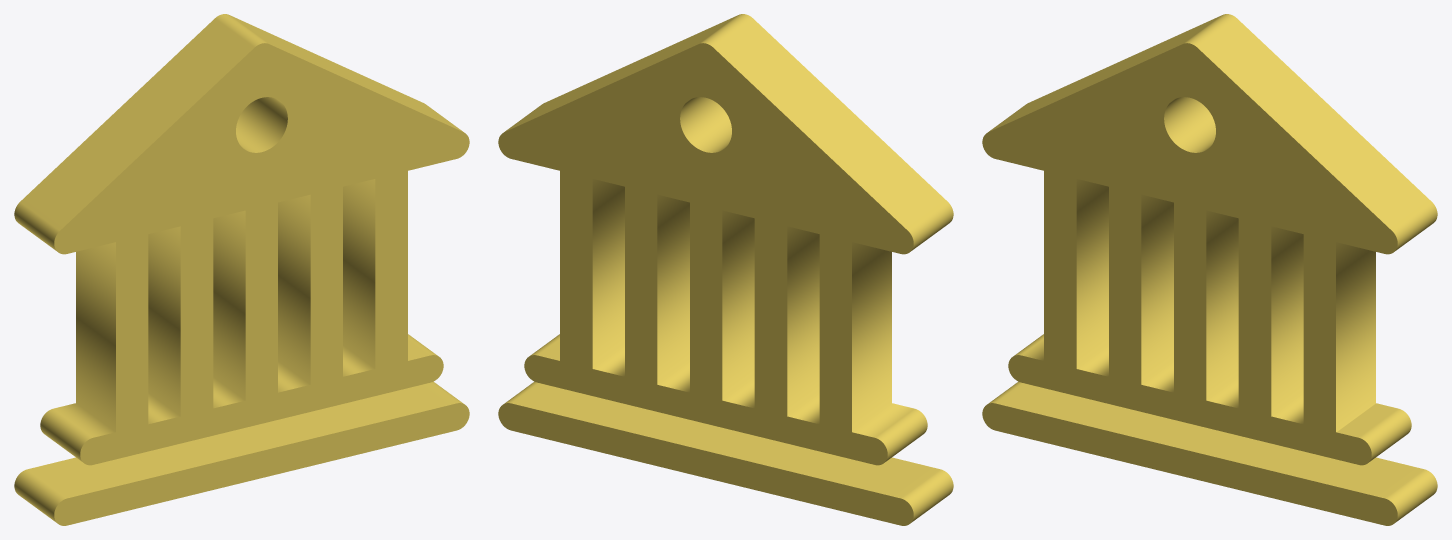
The model's file is bank.glb.
3 views of the same model, side by side, from view 1: azimuth 30°, elevation 25°; view 2: azimuth 150°, elevation 25°; view 3: azimuth 330°, elevation 25° (orthographic).
Parts seen in each view (by area): view 1: Curve; view 2: Curve; view 3: Curve.
Boxes of the visible parts, <box> form: Curve: <box>14,14,469,525</box>; Curve: <box>498,14,953,525</box>; Curve: <box>982,14,1437,525</box>.
Bounding box in the file's own units: 0.9031 × 0.9029 × 0.15.
